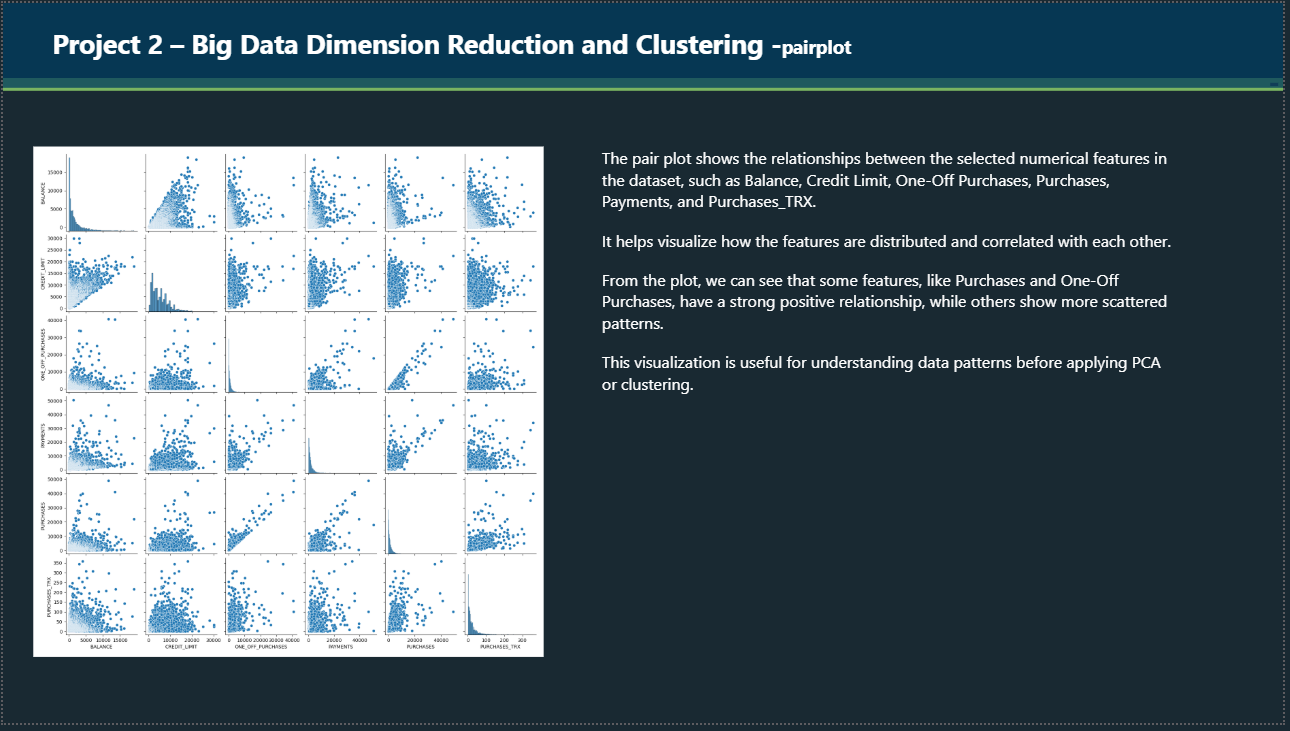

The dashboard page shown, as its layout file describes it:
{"tool":"powerbi","page":{"name":"Pairplot","canvas":[1280,720],"ordinal":1},"visuals":[{"type":"textbox","box":[0,75.6,1280.2,12.8],"z":0},{"type":"pythonVisual","fields":{"Values":["df_reduced.BALANCE","df_reduced.CREDIT_LIMIT","df_reduced.ONE_OFF_PURCHASES","df_reduced.PAYMENTS","df_reduced.PURCHASES","df_reduced.PURCHASES_TRX"]},"box":[17.3,138.2,535.6,520.5],"z":1000},{"type":"textbox","box":[594.2,138.4,581.4,294.2],"z":2000},{"type":"textbox","box":[0,0,1280.2,84.9],"z":3000}]}

Visuals, with their boxes in screenshot pixels (x1, y1, x2, y2), scaled from the page's 1280x720 canvas onto the 1290x731 screenshot:
textbox: bbox(0, 77, 1289, 90)
pythonVisual - df_reduced.BALANCE x df_reduced.CREDIT_LIMIT: bbox(17, 140, 557, 669)
textbox: bbox(599, 141, 1185, 439)
textbox: bbox(0, 0, 1289, 86)
